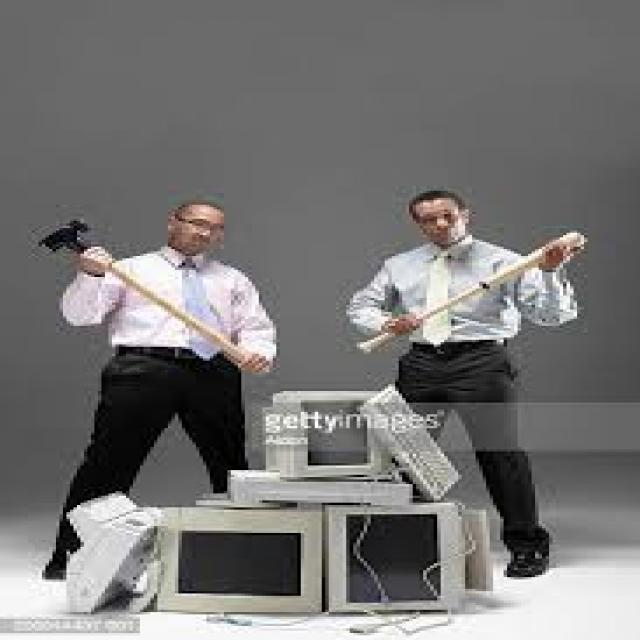hammer: (31, 215, 273, 383)
